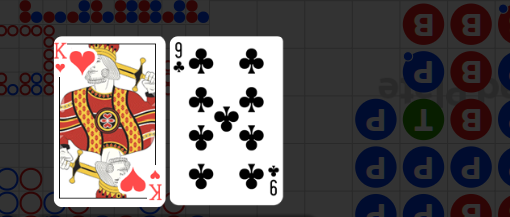9C: (266, 162, 280, 197)
KH: (54, 41, 67, 74)
